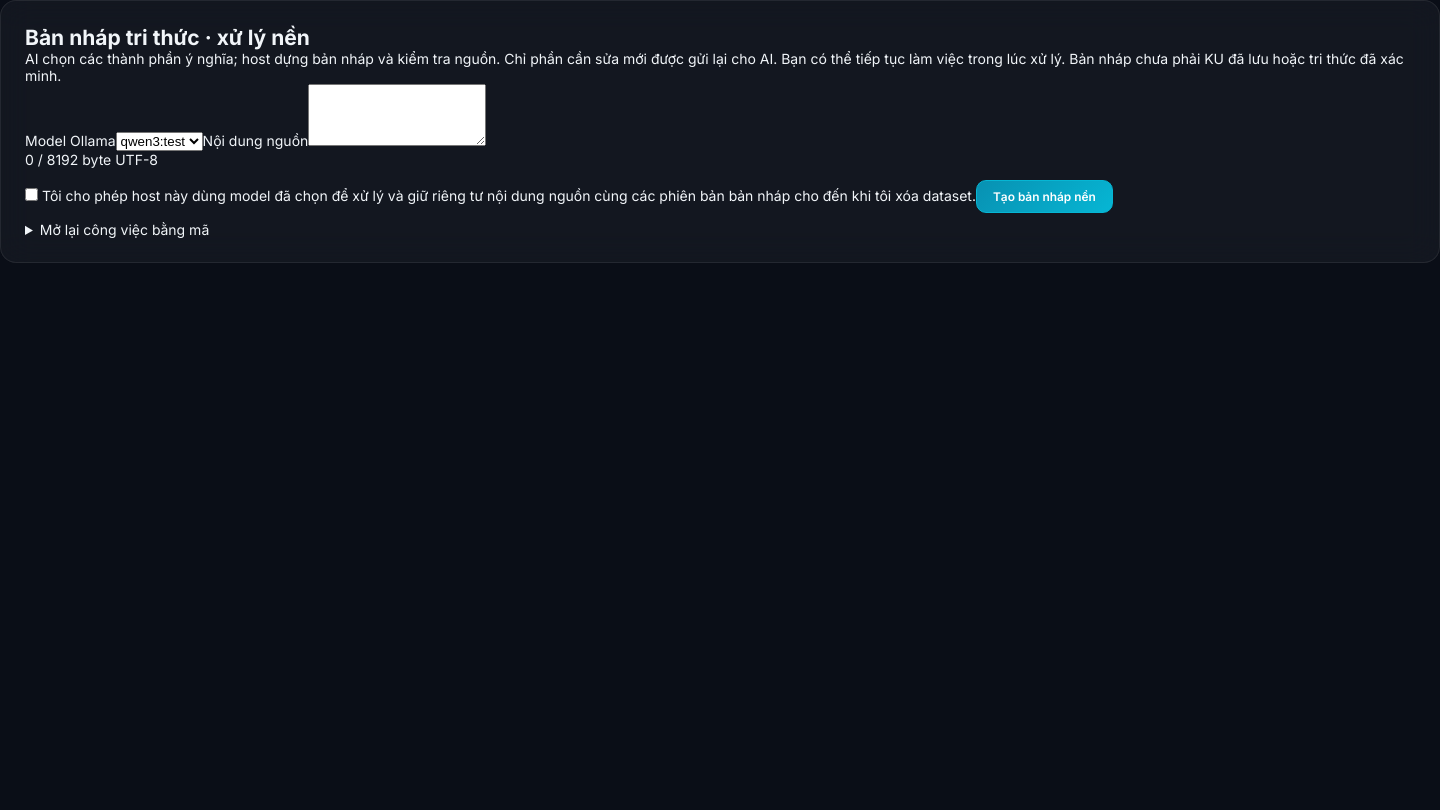
Test: submits once, leaves the source editable during inference and cancels explicitly
The width and height of the screenshot is (1440, 810).
Type "Xe thường có 4 bánh" into the text box labelled "Nội dung nguồn".
click(397, 115); type("Xe thường có 4 bánh")  # box [308,84,486,146]
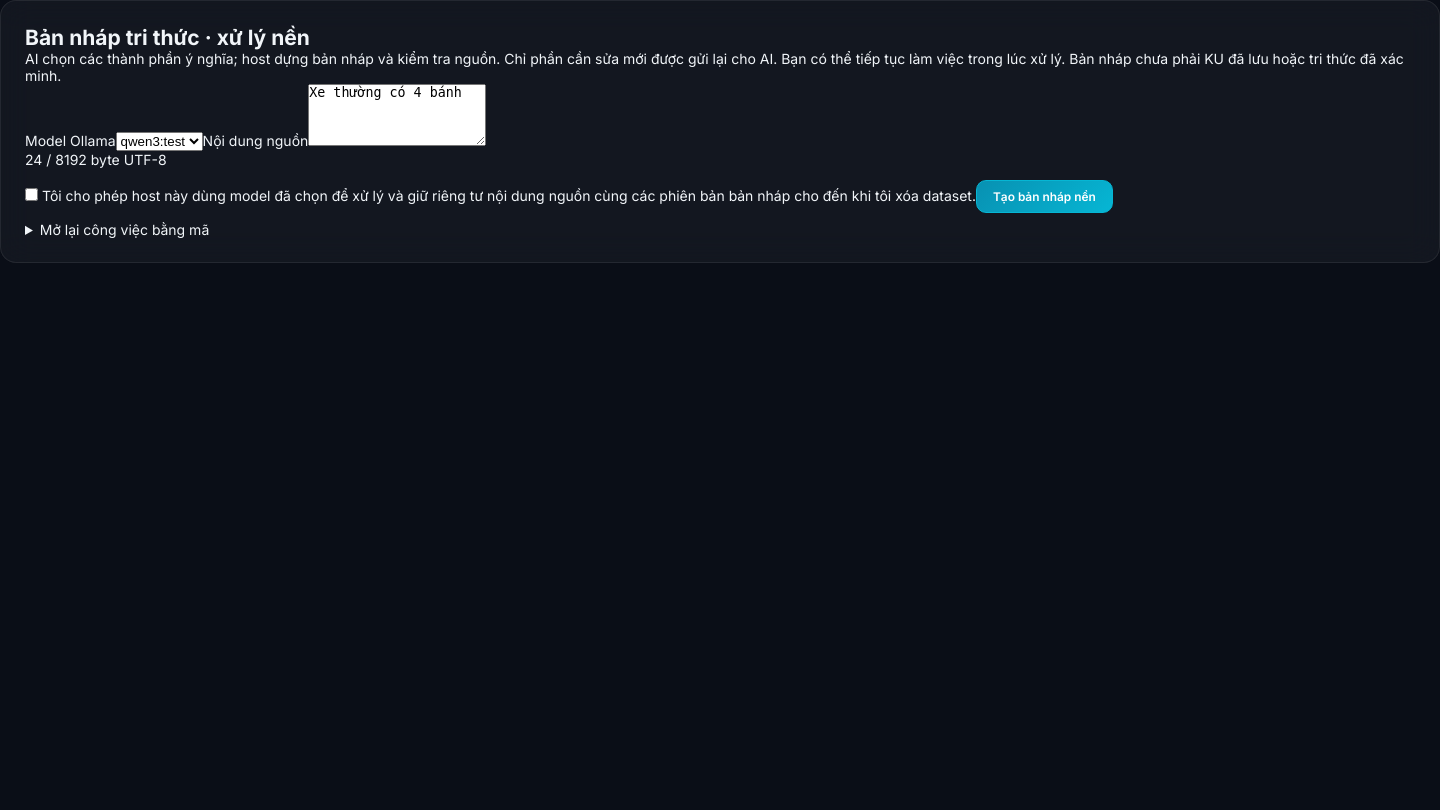
Click the checkbox.
click(32, 194)  # box [25,188,38,201]
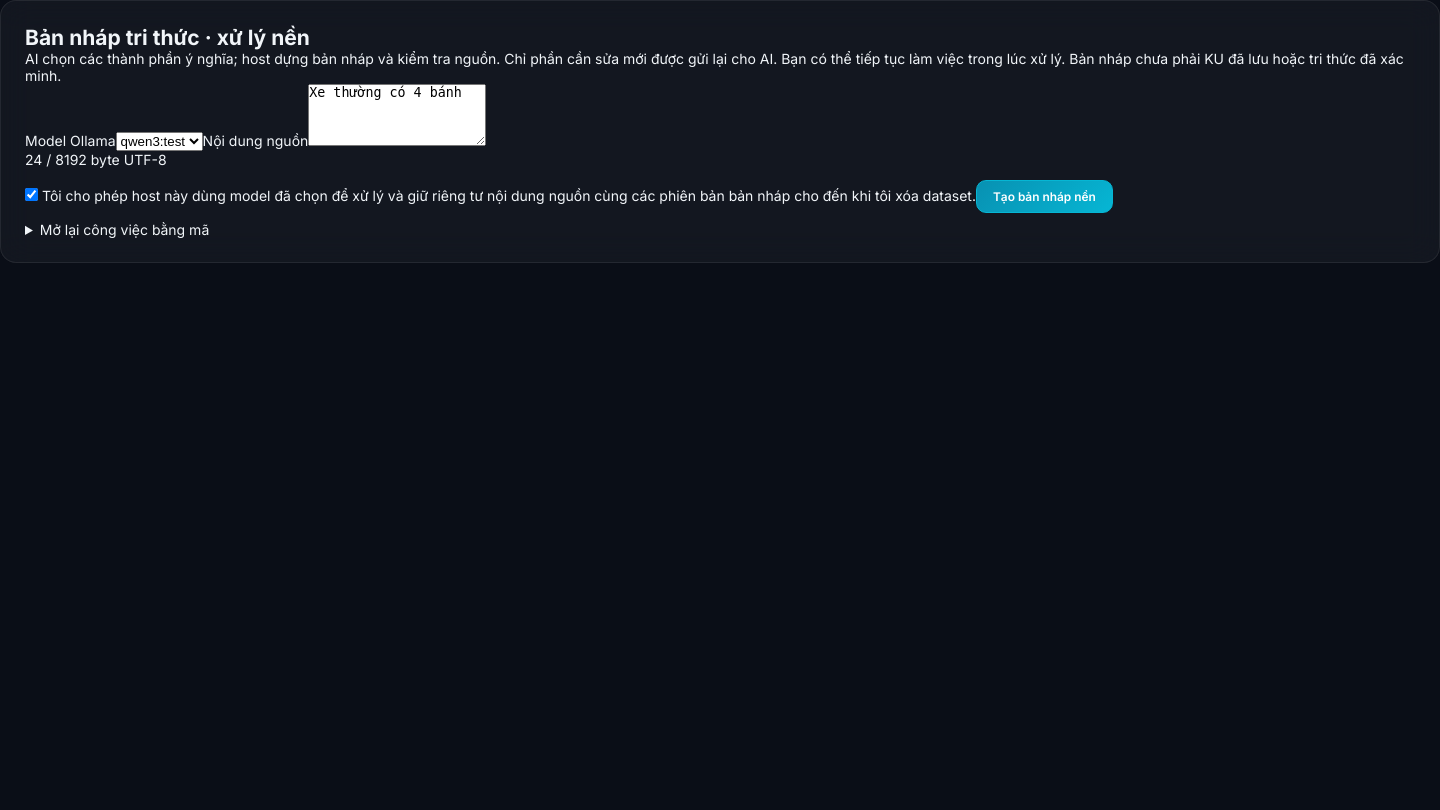
Click the button "Tạo bản nháp nền".
click(1044, 196)  # box [976,180,1113,213]
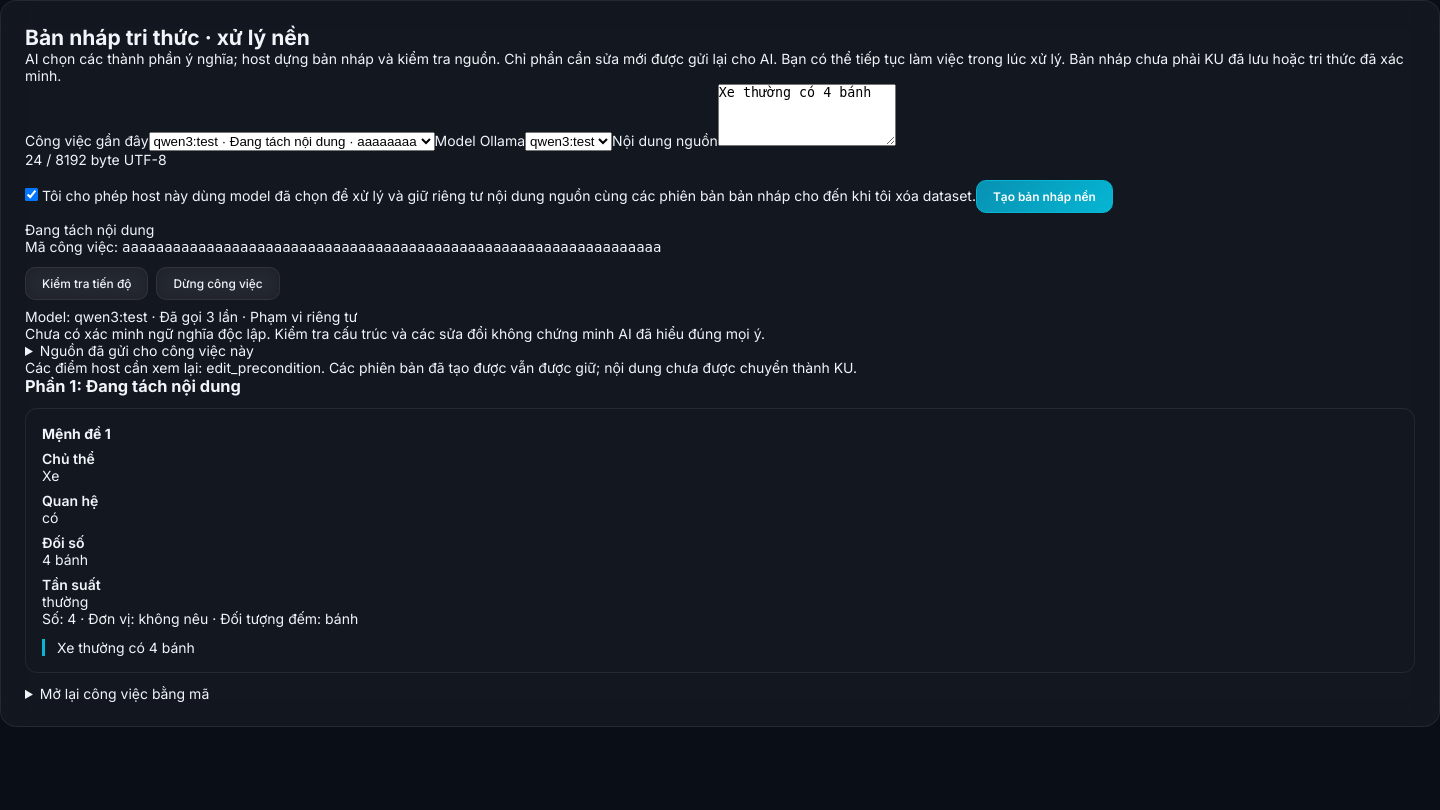
expect the text box labelled "Nội dung nguồn" is enabled: met, box [718,84,896,146]
Click the button "Dừng công việc".
click(218, 284)  # box [156,267,280,300]
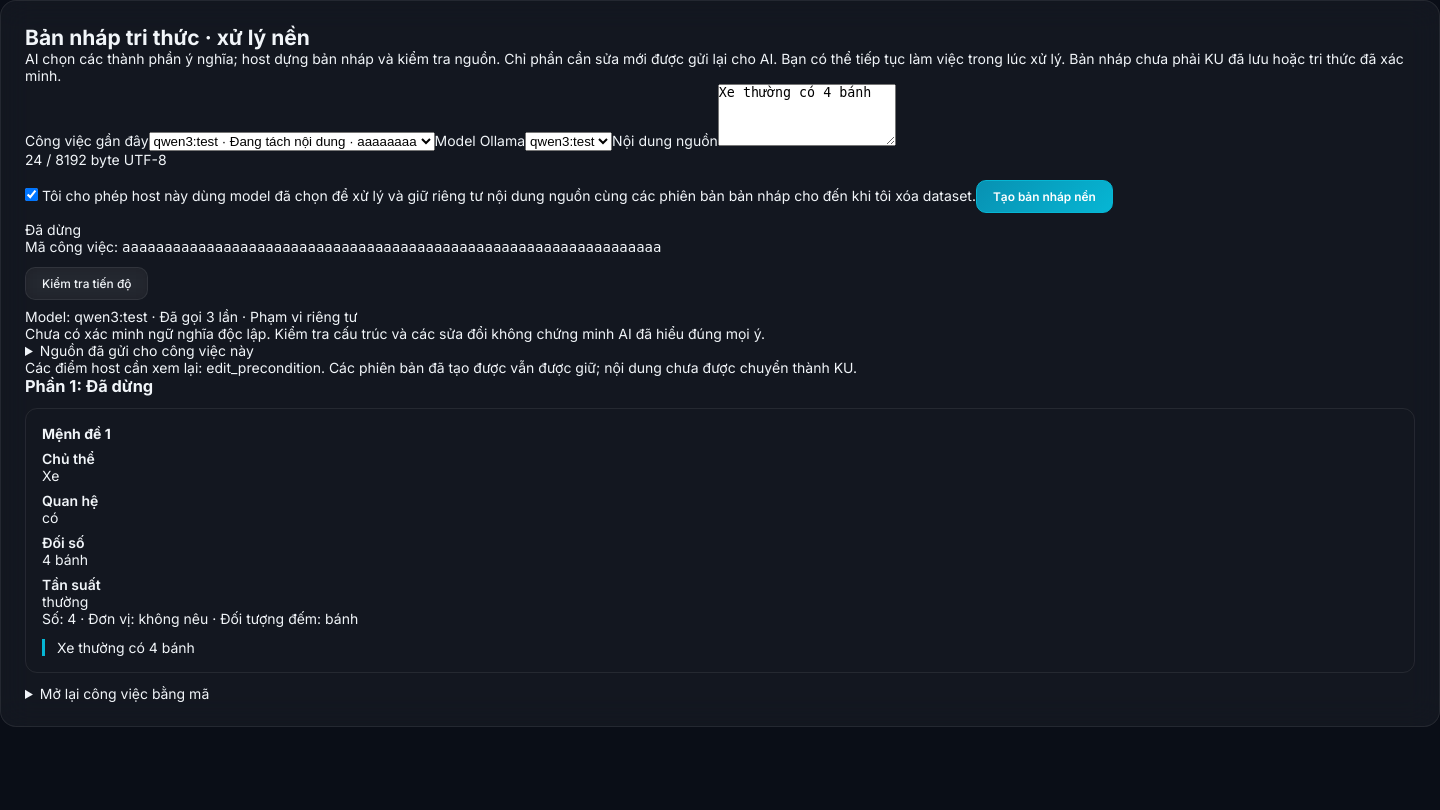
expect the text "Đã dừng" is shown: met, box [25,221,81,238]
